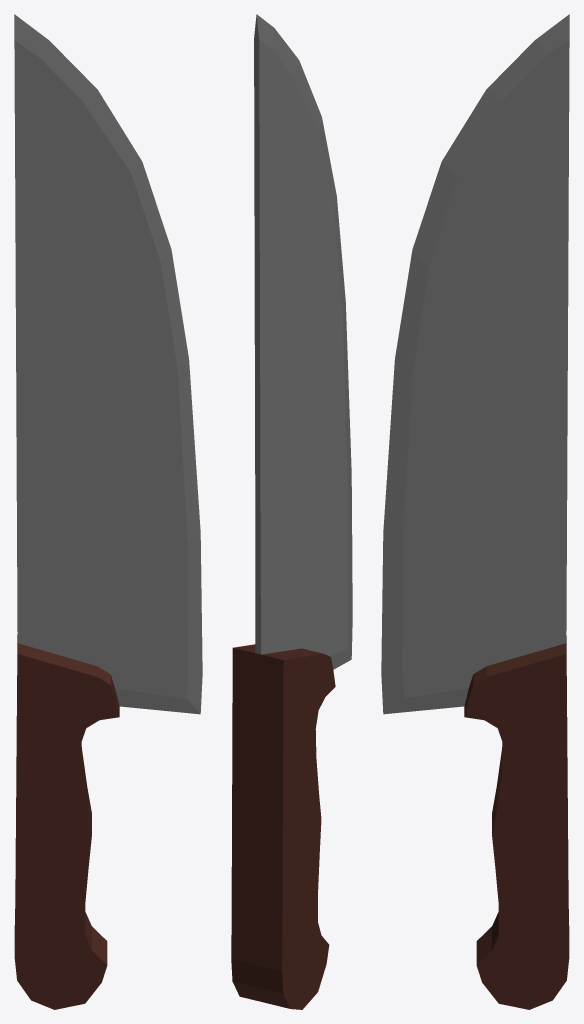
File: knife 1.fbx
3 renders of one model, left to right at view 1: azimuth 90°, elevation 25°; view 2: azimuth 150°, elevation 25°; view 3: azimuth 270°, elevation 25°, orthographic. The views are drawn at different scales.
Visible parts, largest first — view 1: blade; view 2: blade; view 3: blade.
Part boxes in pixels (x1=…): blade: x1=14, y1=14, x2=202, y2=1009; blade: x1=231, y1=14, x2=352, y2=1009; blade: x1=381, y1=14, x2=569, y2=1009.
Size of the model in its own units: 23.38 by 442 by 76.66.
